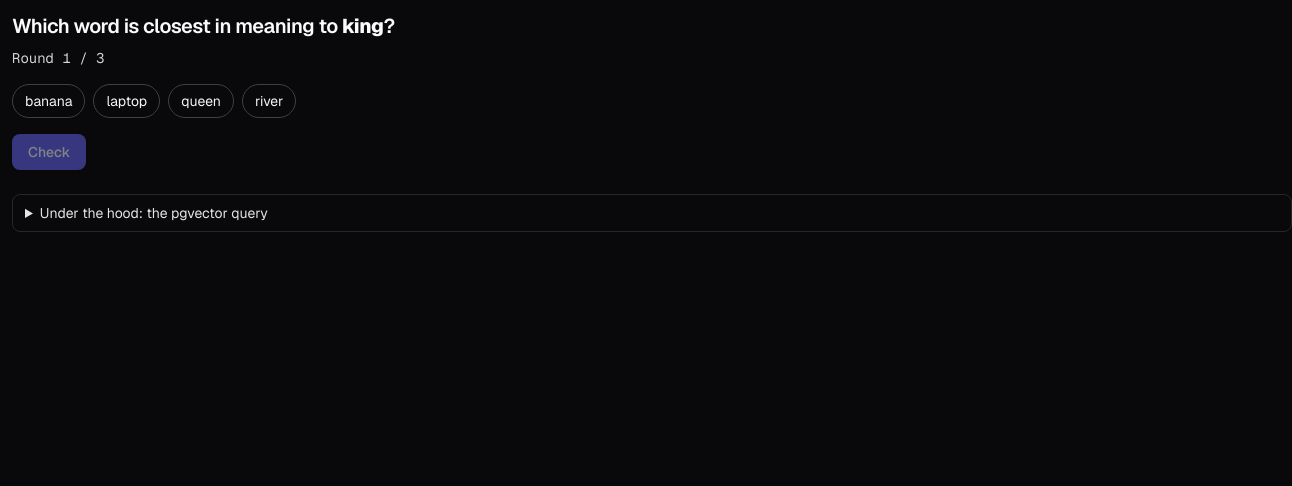
Test: a failed check retries the same round and pick
This screenshot has width=1292, height=486.
Click the button "queen" at (201, 101), box [168,84,234,118]
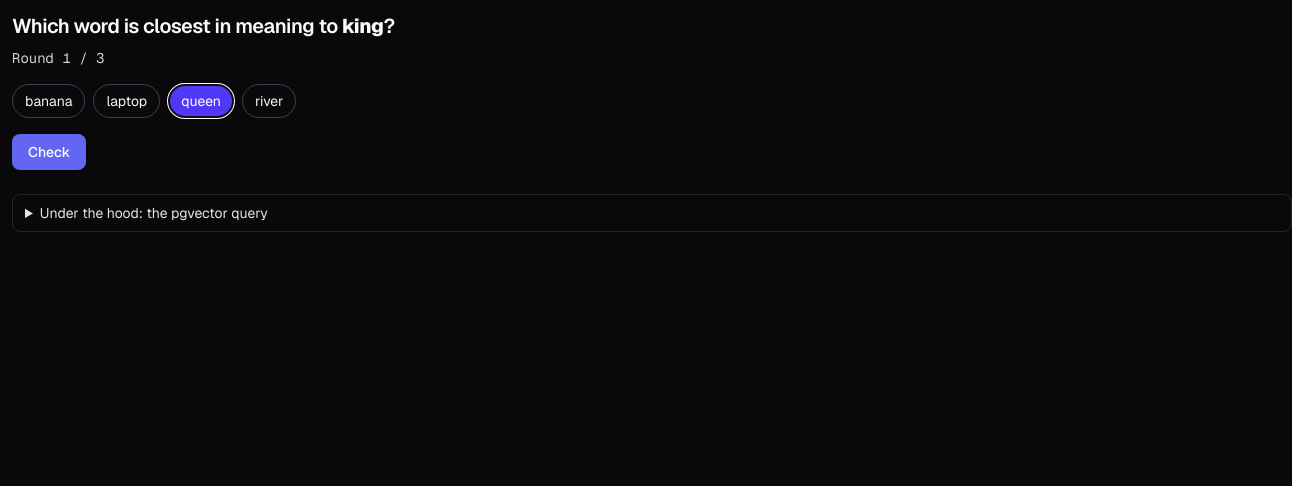
Click the button "Check" at (49, 152), box [12,134,86,170]
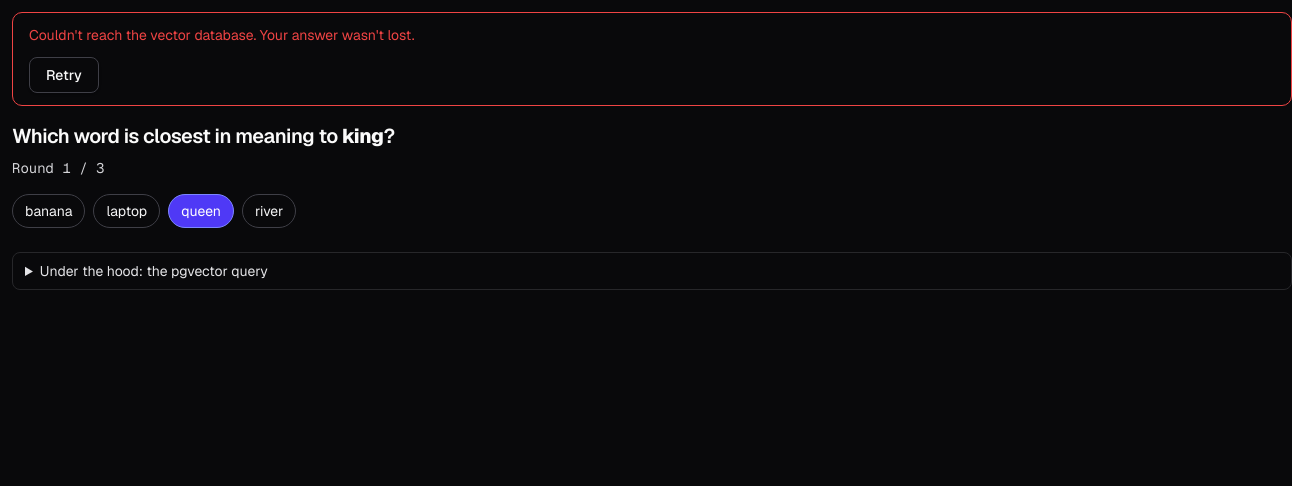
Expected: the message does not show "connection reset", [12,12,1291,106]
Expected: the message shows "Couldn't reach the vector database. Your answer wasn't lost.", [29,26,414,44]
Click the button "Retry" at (64, 75), box [29,57,99,93]
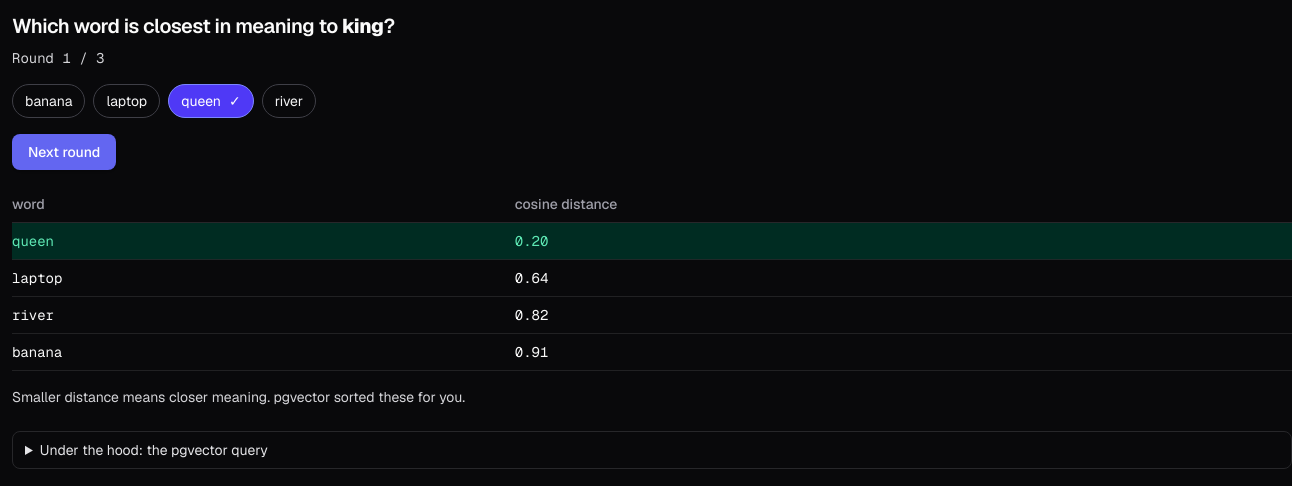
Expected: the table named "Cosine distances" is shown, [12,186,1291,371]
